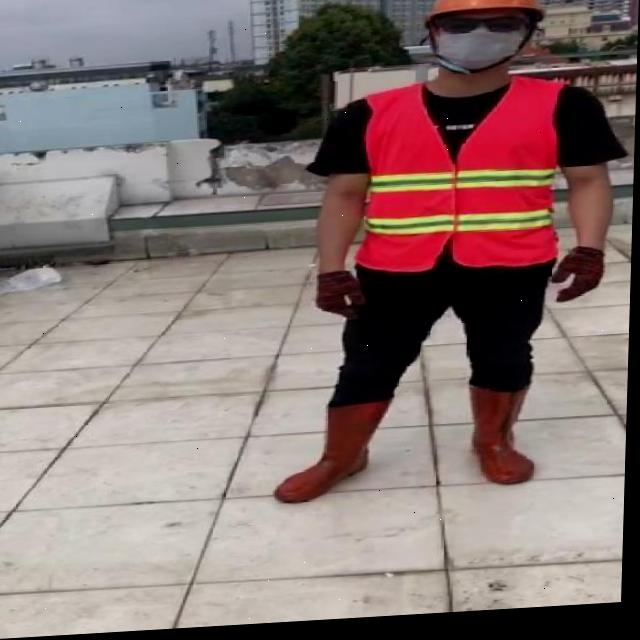Gloves: (551, 252, 607, 310), (315, 272, 370, 326)
Helmet: (422, 0, 547, 81)
Safety-Boot: (276, 400, 394, 508), (468, 385, 539, 493)
Safety-Vest: (354, 78, 569, 283)
